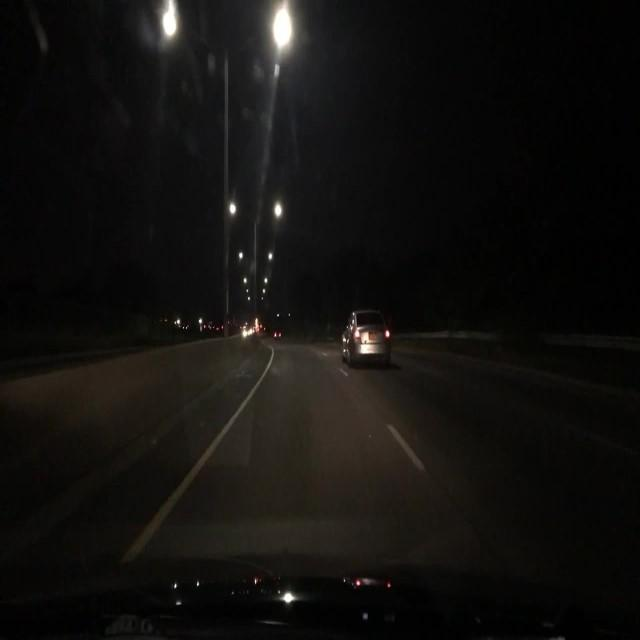normal: (334, 275, 401, 376)
